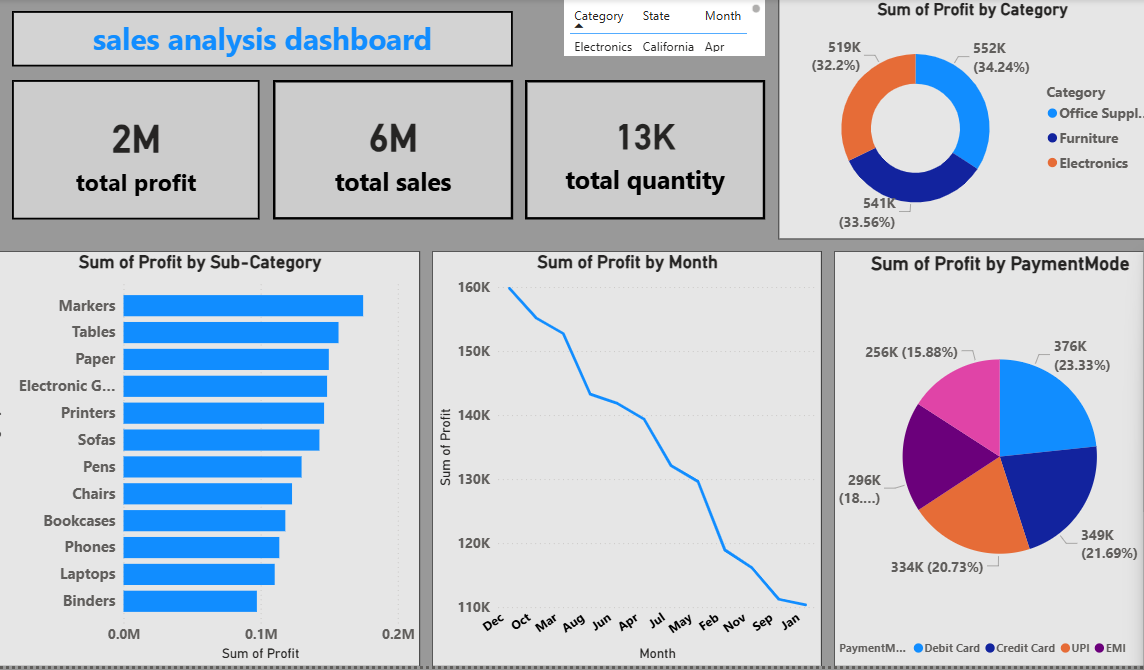

The page's visual inventory and layout, read from the dashboard file:
{"tool":"powerbi","page":{"name":"Page 1","canvas":[1280,720],"ordinal":0},"visuals":[{"type":"card","fields":{"Values":["Sales Dataset.total profit"]},"box":[35.6,87.4,267.2,150.6],"z":0},{"type":"card","fields":{"Values":["Sales Dataset.total sales"]},"box":[317.4,87.4,259.1,150.6],"z":1000},{"type":"card","fields":{"Values":["Sales Dataset.total quantity"]},"box":[589.4,87.4,259.1,150.6],"z":2000},{"type":"barChart","fields":{"Category":["Sales Dataset.Sub-Category"],"Y":["Sum(Sales Dataset.Profit)"]},"box":[0,272,476.1,448.5],"z":3000},{"type":"lineChart","fields":{"Category":["Sales Dataset.Month"],"Y":["Sum(Sales Dataset.Profit)"]},"box":[489,272,421,448.5],"z":4000},{"type":"pieChart","fields":{"Category":["Sales Dataset.PaymentMode"],"Y":["Sum(Sales Dataset.Profit)"]},"box":[923,272,357.8,448.5],"z":5000},{"type":"donutChart","fields":{"Y":["Sum(Sales Dataset.Profit)"],"Category":["Sales Dataset.Category"]},"box":[863,0,417.8,259.1],"z":6000},{"type":"tableEx","fields":{"Values":["Sales Dataset.Category","Sales Dataset.State","Sales Dataset.Month"]},"box":[631.5,0,217,61.5],"z":7000},{"type":"textbox","box":[35.6,13,540.8,59.9],"z":8000}]}

Visuals, with their boxes on the page's 1280x720 design canvas (x1, y1, x2, y2). These are canvas units, not pixel positions in the 1144x670 screenshot, which may show the page scaled, cropped or inside an application window:
card - Sales Dataset.total profit: [36,87,303,238]
card - Sales Dataset.total sales: [317,87,576,238]
card - Sales Dataset.total quantity: [589,87,848,238]
barChart - Sales Dataset.Sub-Category x Sum(Sales Dataset.Profit): [0,272,476,720]
lineChart - Sales Dataset.Month x Sum(Sales Dataset.Profit): [489,272,910,720]
pieChart - Sales Dataset.PaymentMode x Sum(Sales Dataset.Profit): [923,272,1281,720]
donutChart - Sum(Sales Dataset.Profit) x Sales Dataset.Category: [863,0,1281,259]
tableEx - Sales Dataset.Category x Sales Dataset.State: [632,0,848,62]
textbox: [36,13,576,73]
